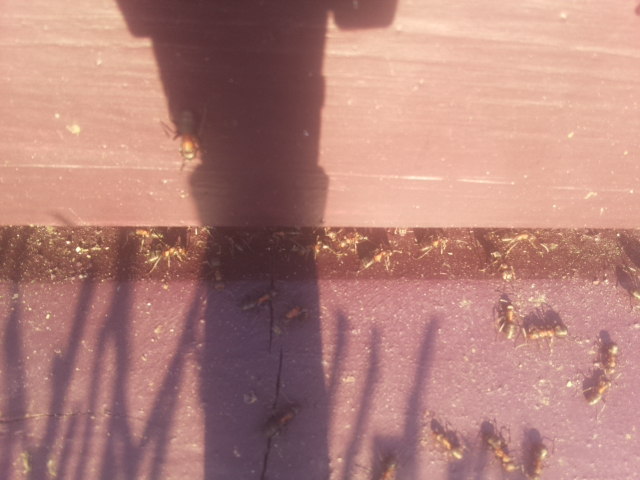ant: (159, 96, 209, 171), (255, 397, 308, 445), (424, 419, 470, 467), (480, 429, 523, 477), (233, 283, 285, 318), (520, 425, 550, 480), (495, 289, 521, 344), (520, 318, 574, 344), (612, 260, 640, 304), (202, 247, 228, 294), (584, 375, 614, 409), (596, 328, 619, 372), (372, 449, 403, 480)
